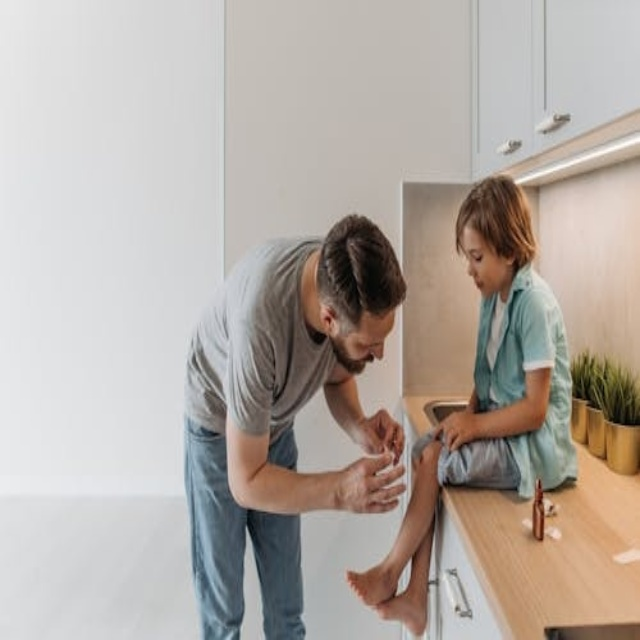Sin_gafas: (355, 320, 393, 356), (461, 236, 495, 266)
Sin_guantes: (334, 451, 407, 516), (360, 407, 404, 463), (432, 407, 471, 452)
Sin_mascara: (343, 345, 381, 381), (465, 268, 497, 293)
